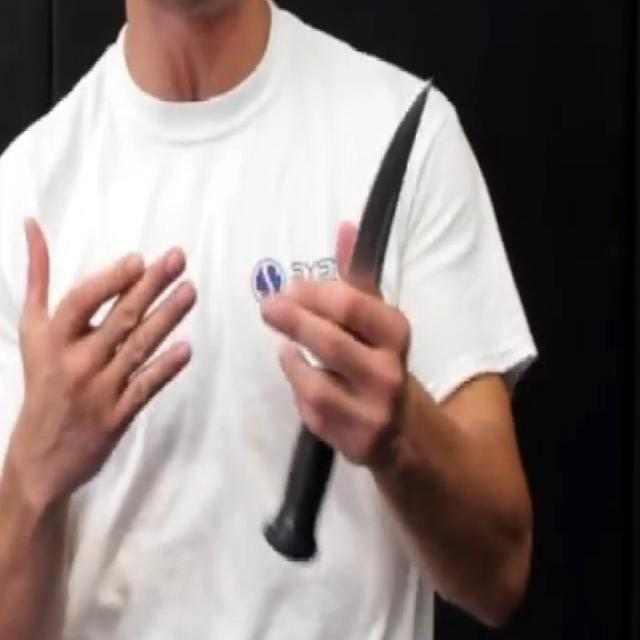suspicion: (252, 66, 542, 632), (344, 70, 437, 300)
